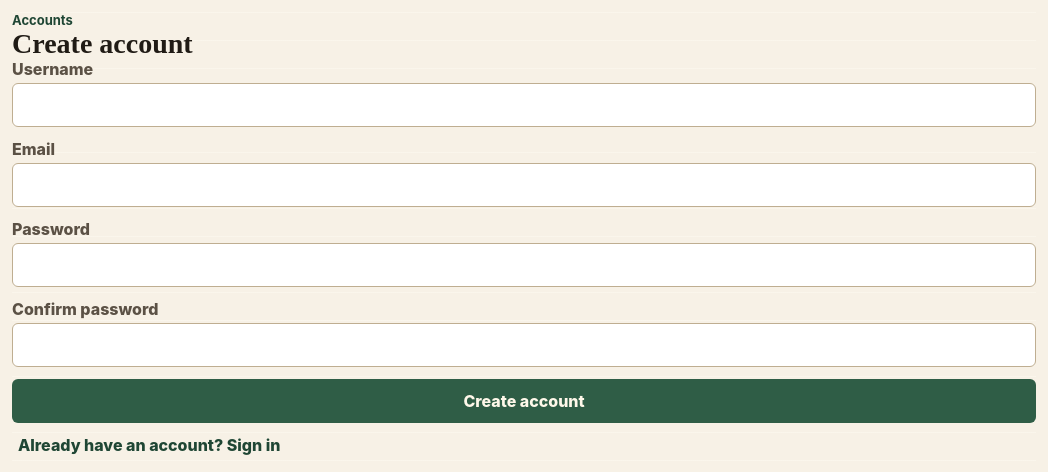
Scenario: AuthForm › registers through the configured backend and switches to sign-in without authenticating
In the field labelled "Username": (524, 105) [12,83,1036,127], type "Mara"
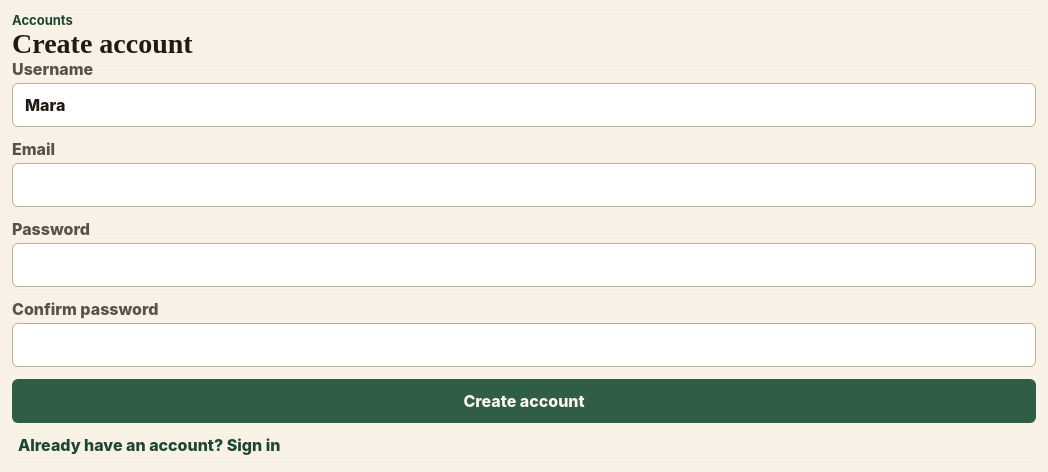
In the field labelled "Email": (524, 185) [12,163,1036,207], type "mara@example.com"
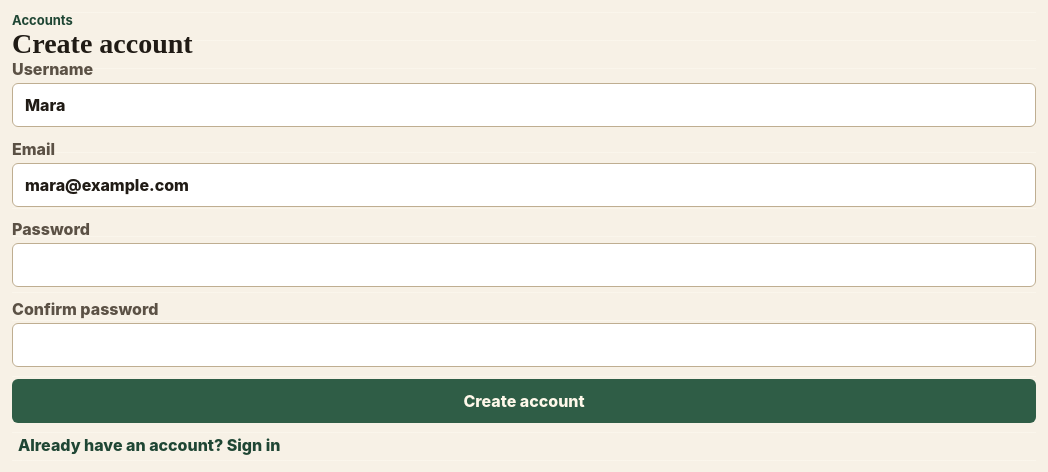
In the password field labelled "Password": (524, 265) [12,243,1036,287], type "Correct-horse-battery-staple1"
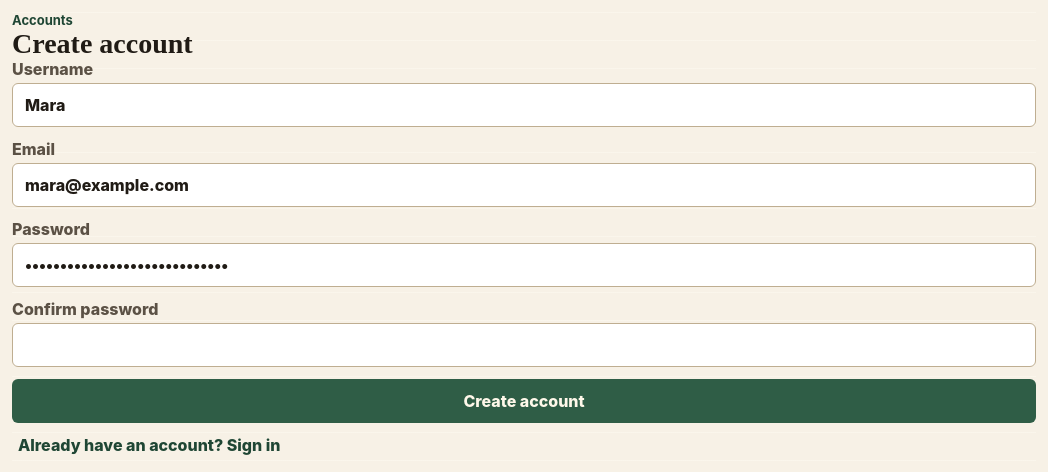
In the password field labelled "Confirm password": (524, 345) [12,323,1036,367], type "Correct-horse-battery-staple1"
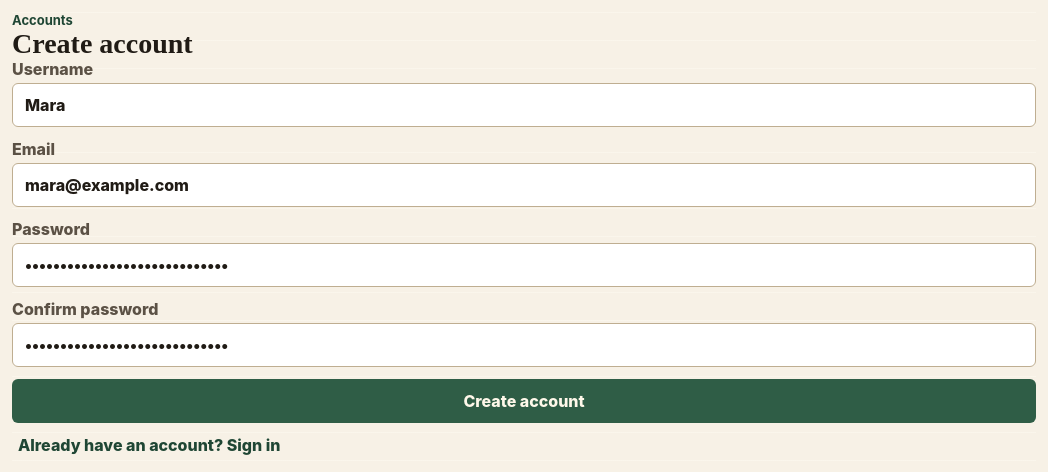
Click the button "Create account": (524, 401) [12,379,1036,423]
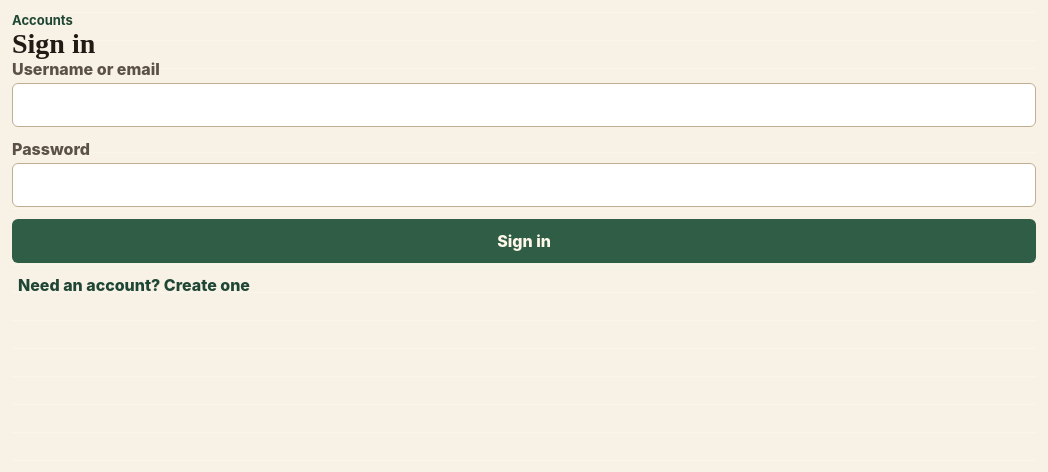
Check: the heading "Sign in" is shown, box [12,28,95,59]
